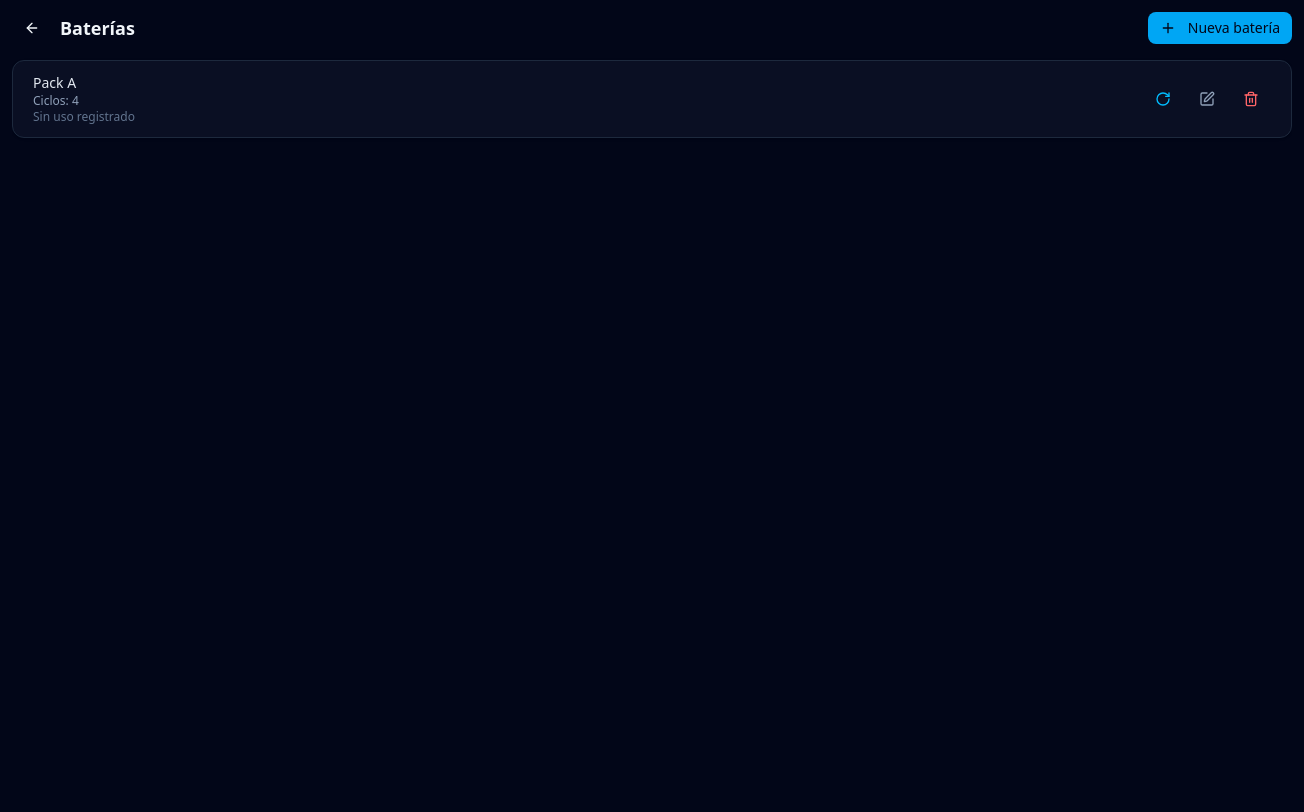
Test: BatteryPage › registers a cycle and reports it
The image size is (1304, 812).
Expected: the text "Pack A" is shown, [33, 73, 76, 92]
Step 1. Click the button named "Registrar ciclo" → click(1163, 99), box [1143, 83, 1183, 115]
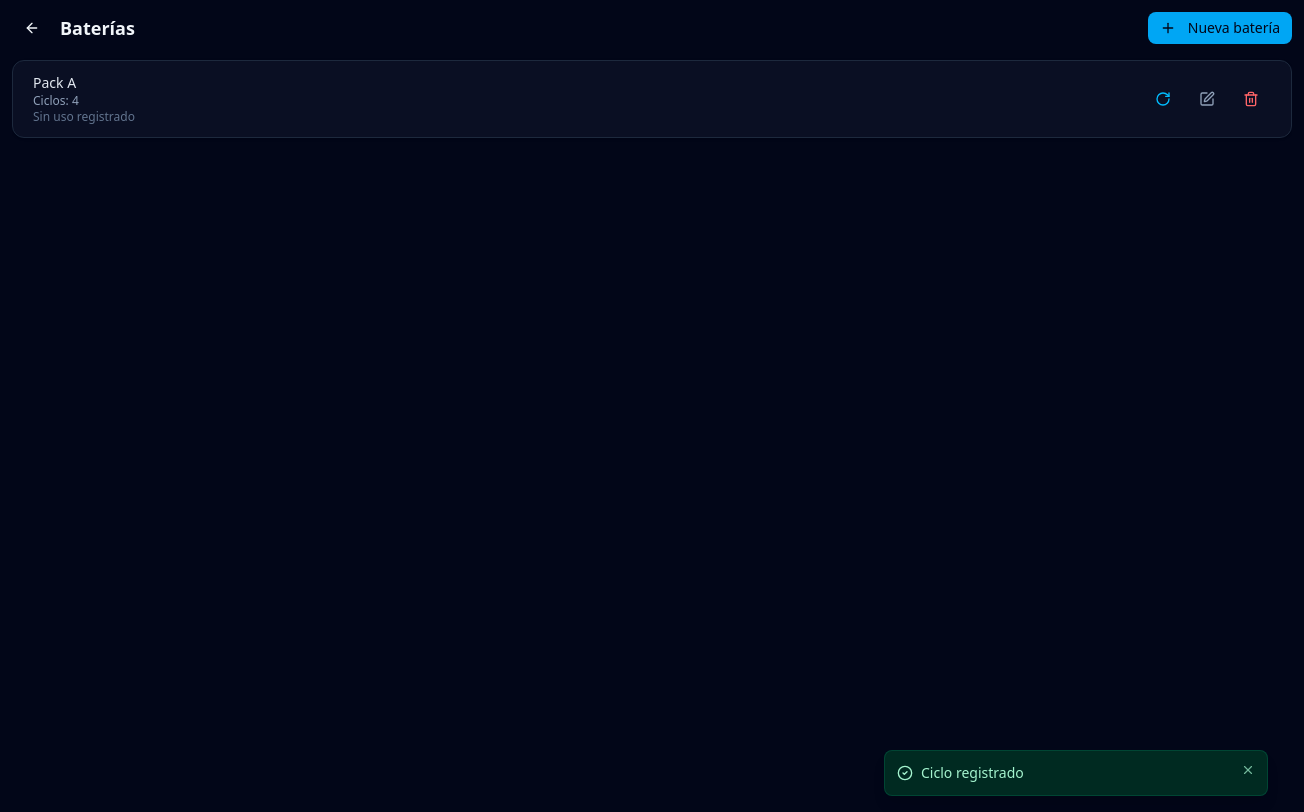
Result: the text "Ciclo registrado" is shown at [921, 763, 1024, 782]
